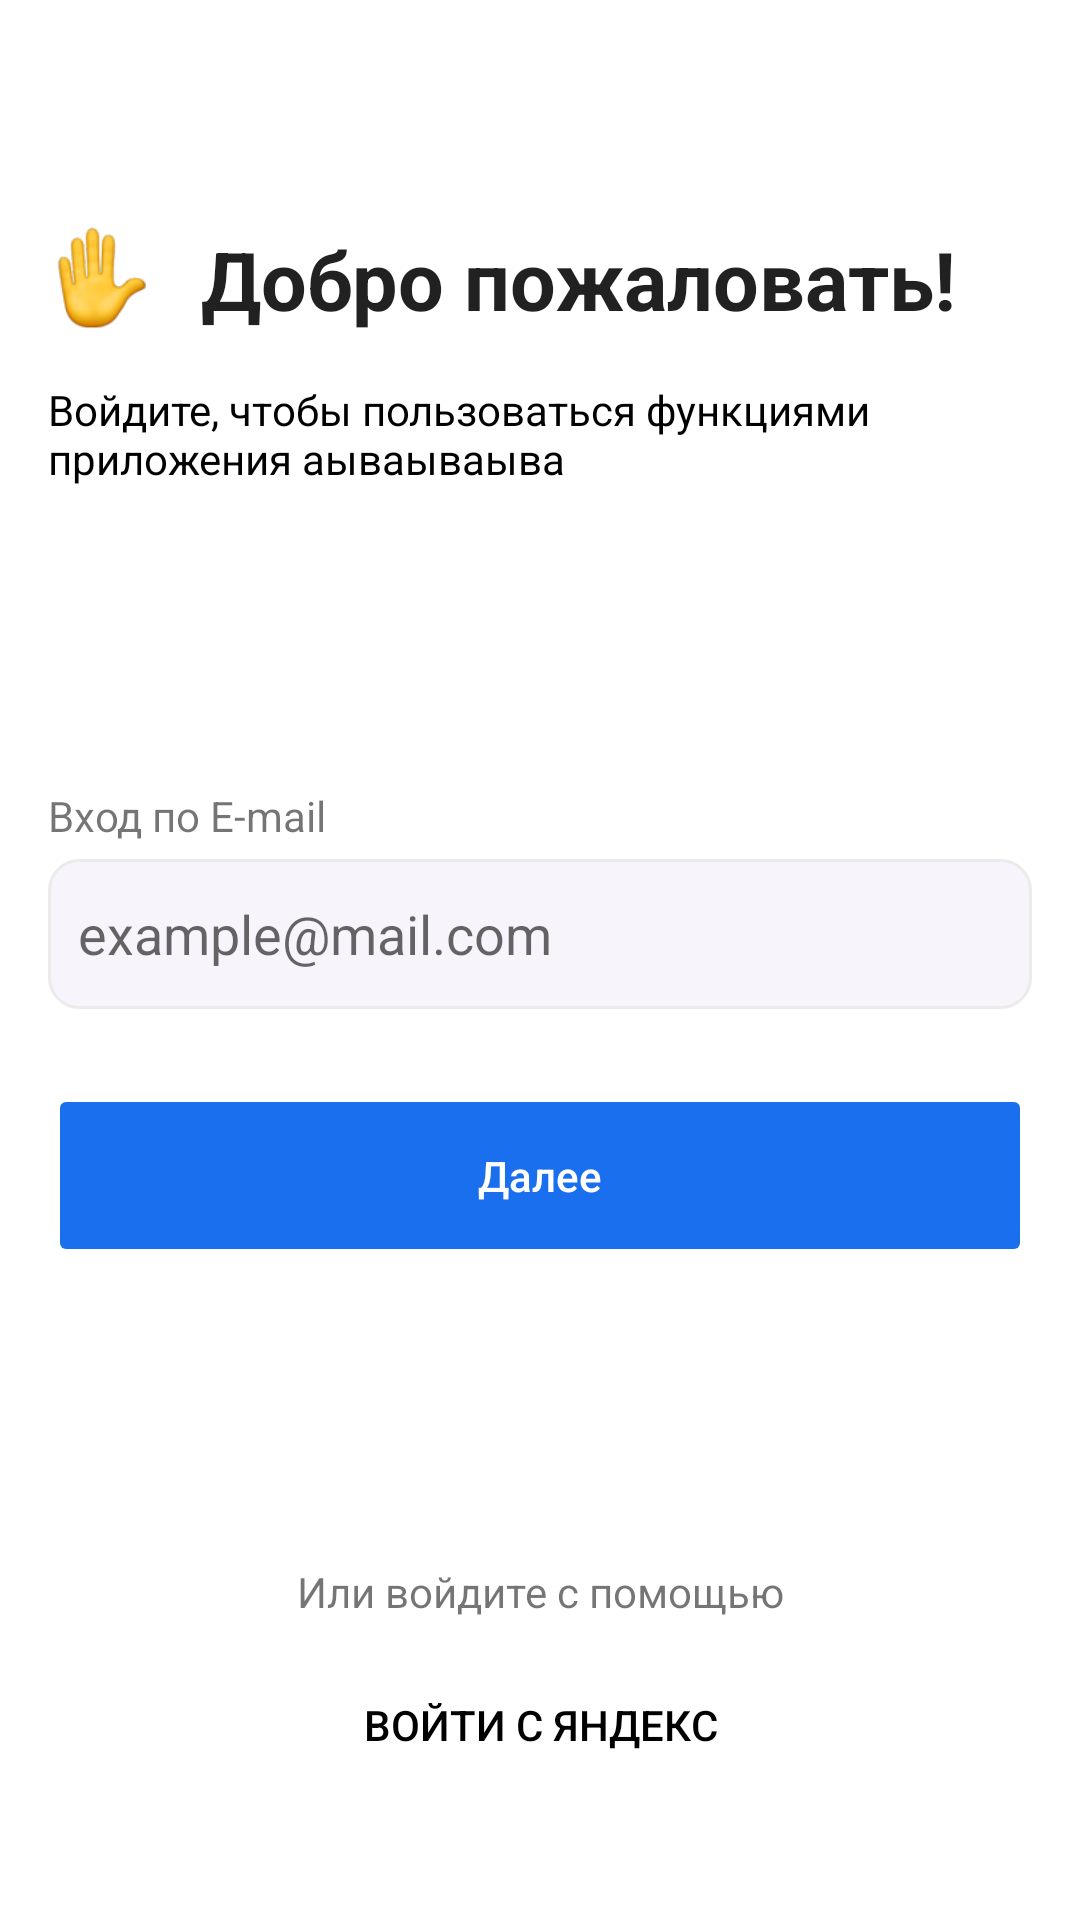

Where to tap for icons on this 1080px×1920px app screen, as (x=x, y=y):
hand: (x=102, y=277)
